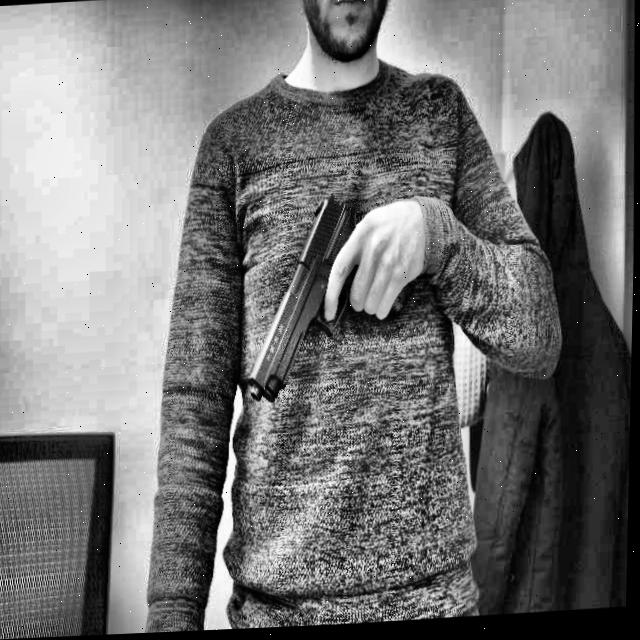pistol: (234, 184, 435, 411)
